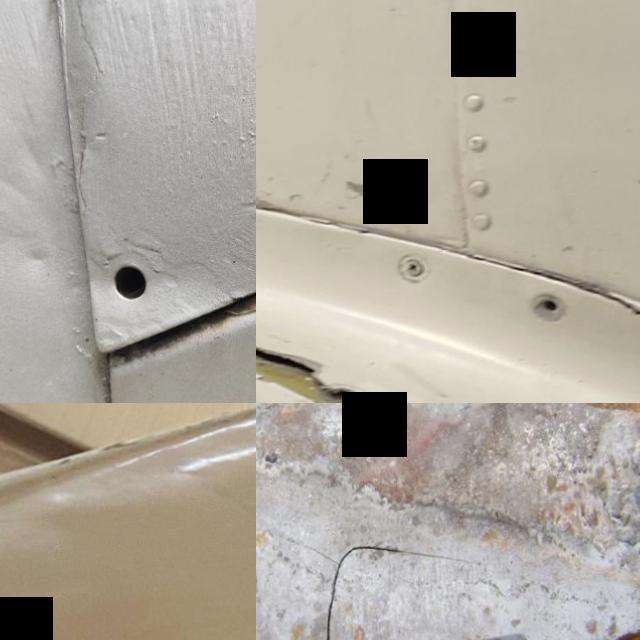Crack: (316, 541, 475, 640), (256, 327, 375, 403), (582, 260, 640, 356)
Missing_Fastener: (70, 230, 179, 338), (528, 297, 564, 327), (326, 386, 359, 403)
